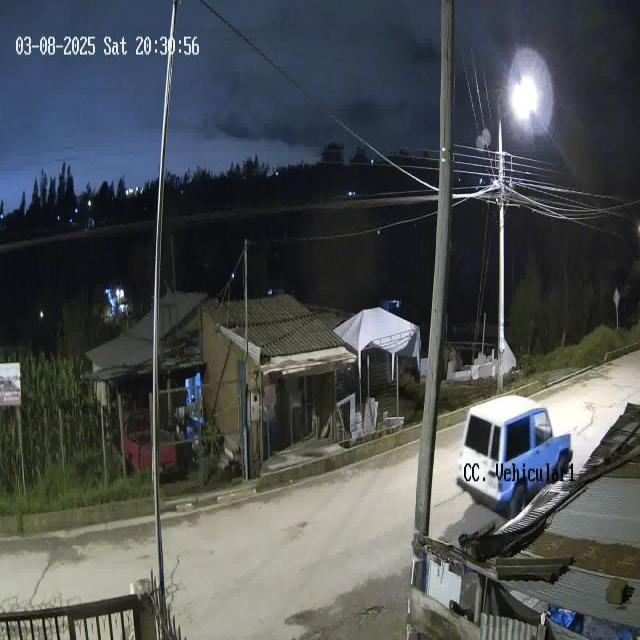SUV: (457, 394, 575, 519)
